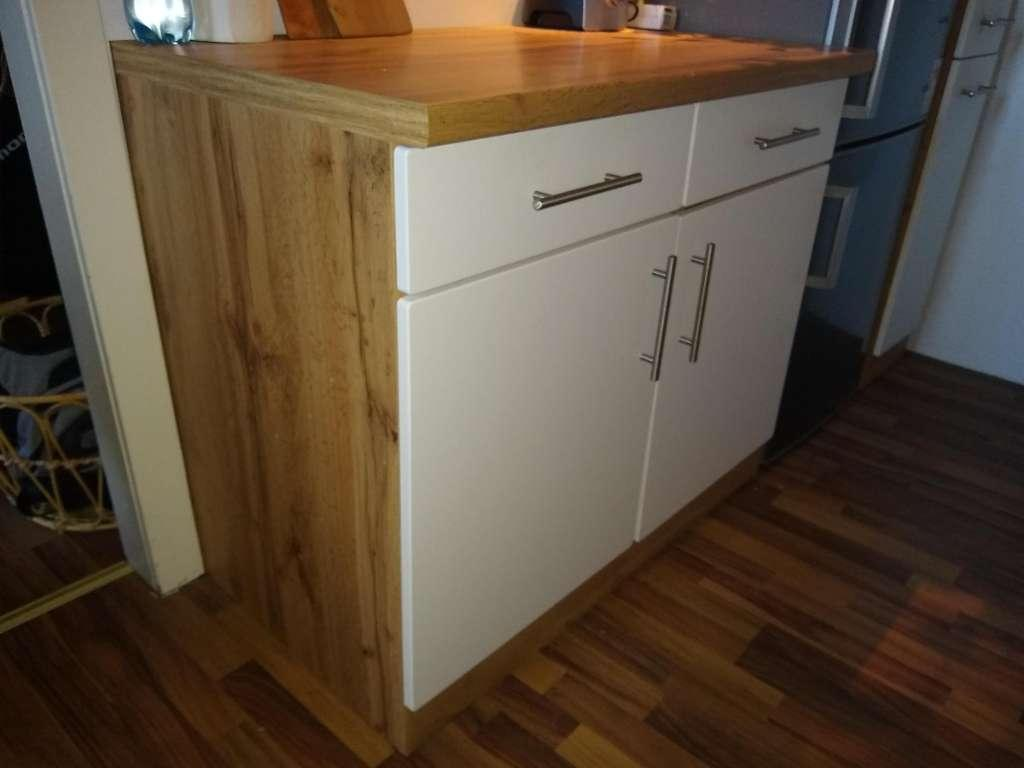cabinet_door: (414, 252, 670, 563), (664, 203, 798, 449), (420, 135, 688, 234), (699, 93, 836, 178)
handle: (526, 160, 649, 218), (639, 249, 687, 378), (683, 241, 731, 367), (750, 119, 826, 155)
